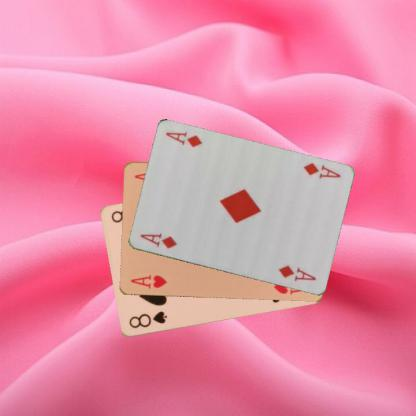8s: (126, 308, 168, 330)
Ad: (300, 160, 342, 180), (137, 231, 178, 250)
Ah: (128, 272, 168, 290)
